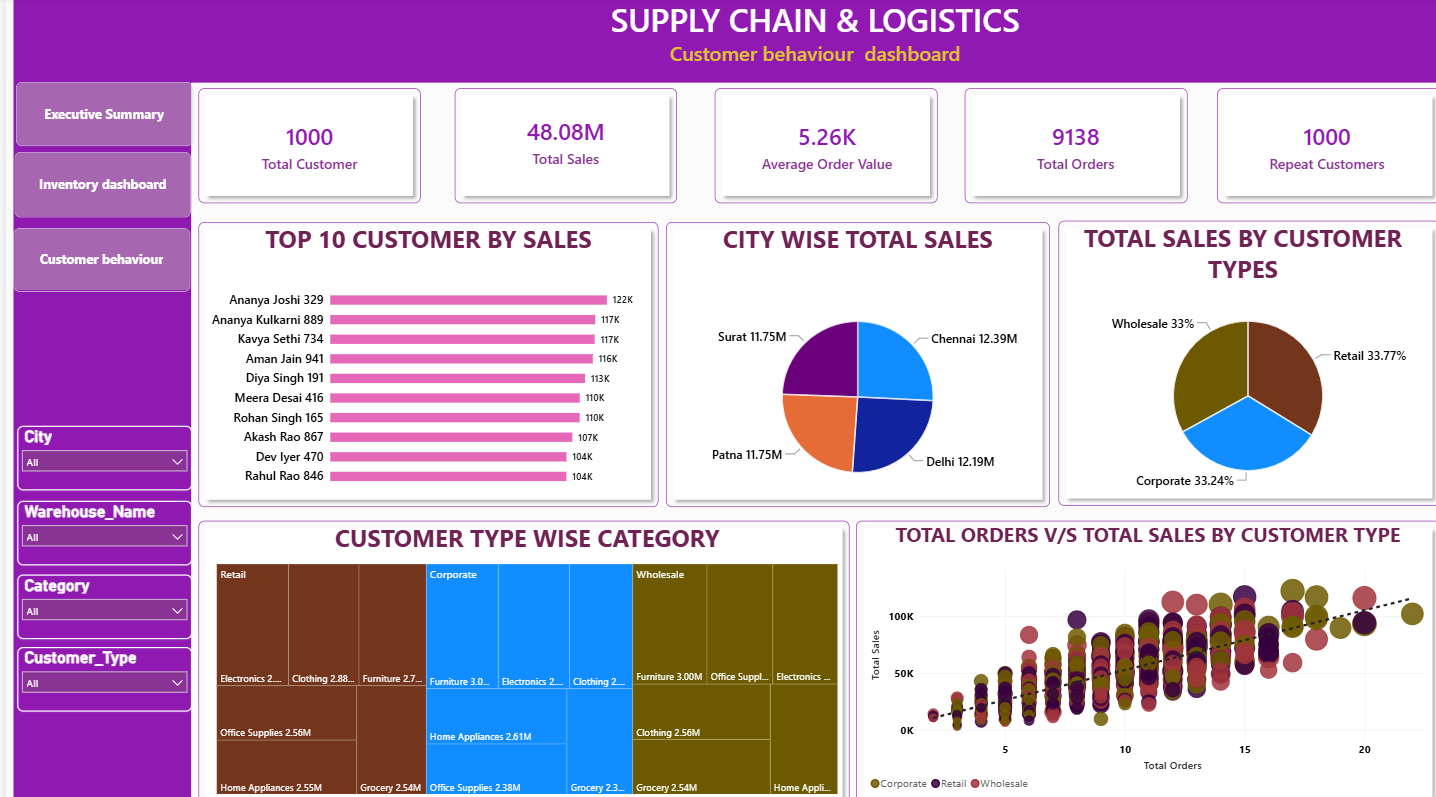

The dashboard page shown, as its layout file describes it:
{"tool":"powerbi","page":{"name":"Customer behaviour dashboard","canvas":[1920,1080],"ordinal":2},"visuals":[{"type":"shape","box":[10.8,0,237.3,1080.4],"z":0},{"type":"shape","box":[244.5,0,1675,114.7],"z":1000},{"type":"shape","box":[257.5,121.2,296.5,153.7],"z":2000},{"type":"shape","box":[1618,121.9,297.2,153.6],"z":3000},{"type":"shape","box":[599.4,121.9,296.5,153.7],"z":4000},{"type":"shape","box":[946.8,121.9,297.2,153.6],"z":5000},{"type":"shape","box":[1280.7,121.9,297.2,153.6],"z":6000},{"type":"shape","box":[257.1,300.6,614.5,380.7],"z":7000},{"type":"shape","box":[257.5,699,870,380.9],"z":8000},{"type":"shape","box":[881.6,300.6,512.6,380.7],"z":9000},{"type":"shape","box":[1405.9,298.9,509.3,380.7],"z":10000},{"type":"shape","box":[1135.4,699.3,779.8,380.7],"z":11000},{"type":"pieChart","fields":{"Category":["Customers.Customer_Type"],"Y":["Customers.Total Sales"]},"box":[1406.7,387.4,506.4,292.2],"z":12000},{"type":"scatterChart","fields":{"Category":["Customers.Customer_ID"],"Series":["Customers.Customer_Type"],"Size":["Customers.Total Quantity"],"X":["Customers.Total Orders"],"Y":["Customers.Total Sales"]},"box":[1138.3,742.3,781.3,337.6],"z":13000},{"type":"treemap","fields":{"Details":["Products.Category"],"Group":["Customers.Customer_Type"],"Values":["Customers.Total Sales"]},"box":[266.2,742.3,861.3,337.6],"z":14000},{"type":"card","fields":{"Values":["Customers.Total Orders"]},"box":[1281.2,121.2,296.5,153.7],"z":15000},{"type":"card","fields":{"Values":["Customers.Total Sales"]},"box":[599.5,114.7,296.5,153.7],"z":16000},{"type":"card","fields":{"Values":["Customers.Average Order Value"]},"box":[947.9,121.2,296.5,153.7],"z":17000},{"type":"card","fields":{"Values":["Customers.Repeat Customers"]},"box":[1616.6,121.2,296.5,153.7],"z":18000},{"type":"card","fields":{"Values":["Customers.Total Customer"]},"box":[257.5,121.2,296.5,153.7],"z":19000},{"type":"textbox","box":[248.9,0,1664.2,114.7],"z":20000},{"type":"clusteredBarChart","fields":{"Category":["Customers.Customer_Name"],"Y":["Customers.Total Sales"]},"box":[257,365.6,615.3,307.6],"z":21000},{"type":"actionButton","box":[12.9,114.3,235.7,85.7],"z":22000},{"type":"actionButton","box":[11.7,207.1,235.4,86.8],"z":23000},{"type":"actionButton","box":[10.8,309.5,235.9,84.4],"z":24000},{"type":"slicer","fields":{"Values":["Warehouses.Warehouse_Name"]},"box":[14.4,672.4,233.7,86.6],"z":25000},{"type":"pieChart","fields":{"Category":["Customers.City"],"Y":["Customers.Total Sales"]},"box":[881.3,387.3,512.1,295],"z":26000},{"type":"textbox","box":[257.1,300.6,614.5,65.1],"z":26001},{"type":"textbox","box":[880.9,300.2,512.4,64.7],"z":26002},{"type":"slicer","fields":{"Values":["Products.Category"]},"box":[14.4,771.2,233.7,86.6],"z":26003},{"type":"slicer","fields":{"Values":["Customers.City"]},"box":[14.4,573.5,233.7,86.6],"z":26004},{"type":"slicer","fields":{"Values":["Customers.Customer_Type"]},"box":[14.4,868.3,233.7,86.6],"z":26005},{"type":"textbox","box":[880.9,300.2,512.4,64.7],"z":26006},{"type":"textbox","box":[1393.3,298.4,519.6,88.1],"z":26007},{"type":"textbox","box":[265.5,699.6,861.6,60.1],"z":26008},{"type":"textbox","box":[1138.8,699.6,773.1,60.1],"z":26009}]}

Visuals, with their boxes on the page's 1920x1080 design canvas (x1, y1, x2, y2). These are canvas units, not pixel positions in the 1436x797 screenshot, which may show the page scaled, cropped or inside an application window:
shape: Rect(11, 0, 248, 1080)
shape: Rect(244, 0, 1920, 115)
shape: Rect(258, 121, 554, 275)
shape: Rect(1618, 122, 1915, 276)
shape: Rect(599, 122, 896, 276)
shape: Rect(947, 122, 1244, 276)
shape: Rect(1281, 122, 1578, 276)
shape: Rect(257, 301, 872, 681)
shape: Rect(258, 699, 1128, 1080)
shape: Rect(882, 301, 1394, 681)
shape: Rect(1406, 299, 1915, 680)
shape: Rect(1135, 699, 1915, 1080)
pieChart - Customers.Customer_Type x Customers.Total Sales: Rect(1407, 387, 1913, 680)
scatterChart - Customers.Customer_ID x Customers.Customer_Type: Rect(1138, 742, 1920, 1080)
treemap - Products.Category x Customers.Customer_Type: Rect(266, 742, 1128, 1080)
card - Customers.Total Orders: Rect(1281, 121, 1578, 275)
card - Customers.Total Sales: Rect(600, 115, 896, 268)
card - Customers.Average Order Value: Rect(948, 121, 1244, 275)
card - Customers.Repeat Customers: Rect(1617, 121, 1913, 275)
card - Customers.Total Customer: Rect(258, 121, 554, 275)
textbox: Rect(249, 0, 1913, 115)
clusteredBarChart - Customers.Customer_Name x Customers.Total Sales: Rect(257, 366, 872, 673)
actionButton: Rect(13, 114, 249, 200)
actionButton: Rect(12, 207, 247, 294)
actionButton: Rect(11, 310, 247, 394)
slicer - Warehouses.Warehouse_Name: Rect(14, 672, 248, 759)
pieChart - Customers.City x Customers.Total Sales: Rect(881, 387, 1393, 682)
textbox: Rect(257, 301, 872, 366)
textbox: Rect(881, 300, 1393, 365)
slicer - Products.Category: Rect(14, 771, 248, 858)
slicer - Customers.City: Rect(14, 574, 248, 660)
slicer - Customers.Customer_Type: Rect(14, 868, 248, 955)
textbox: Rect(881, 300, 1393, 365)
textbox: Rect(1393, 298, 1913, 386)
textbox: Rect(266, 700, 1127, 760)
textbox: Rect(1139, 700, 1912, 760)
